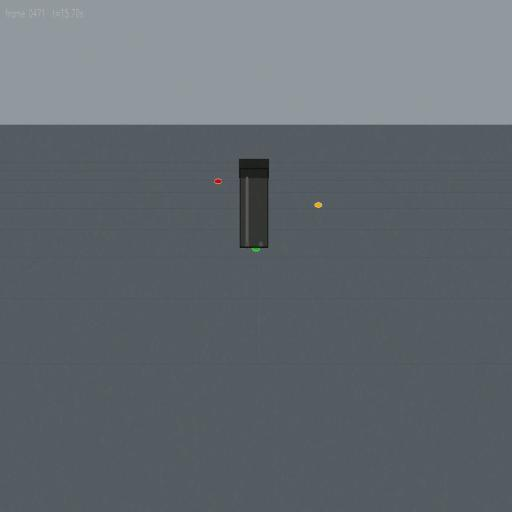bin: (238, 158, 270, 249)
